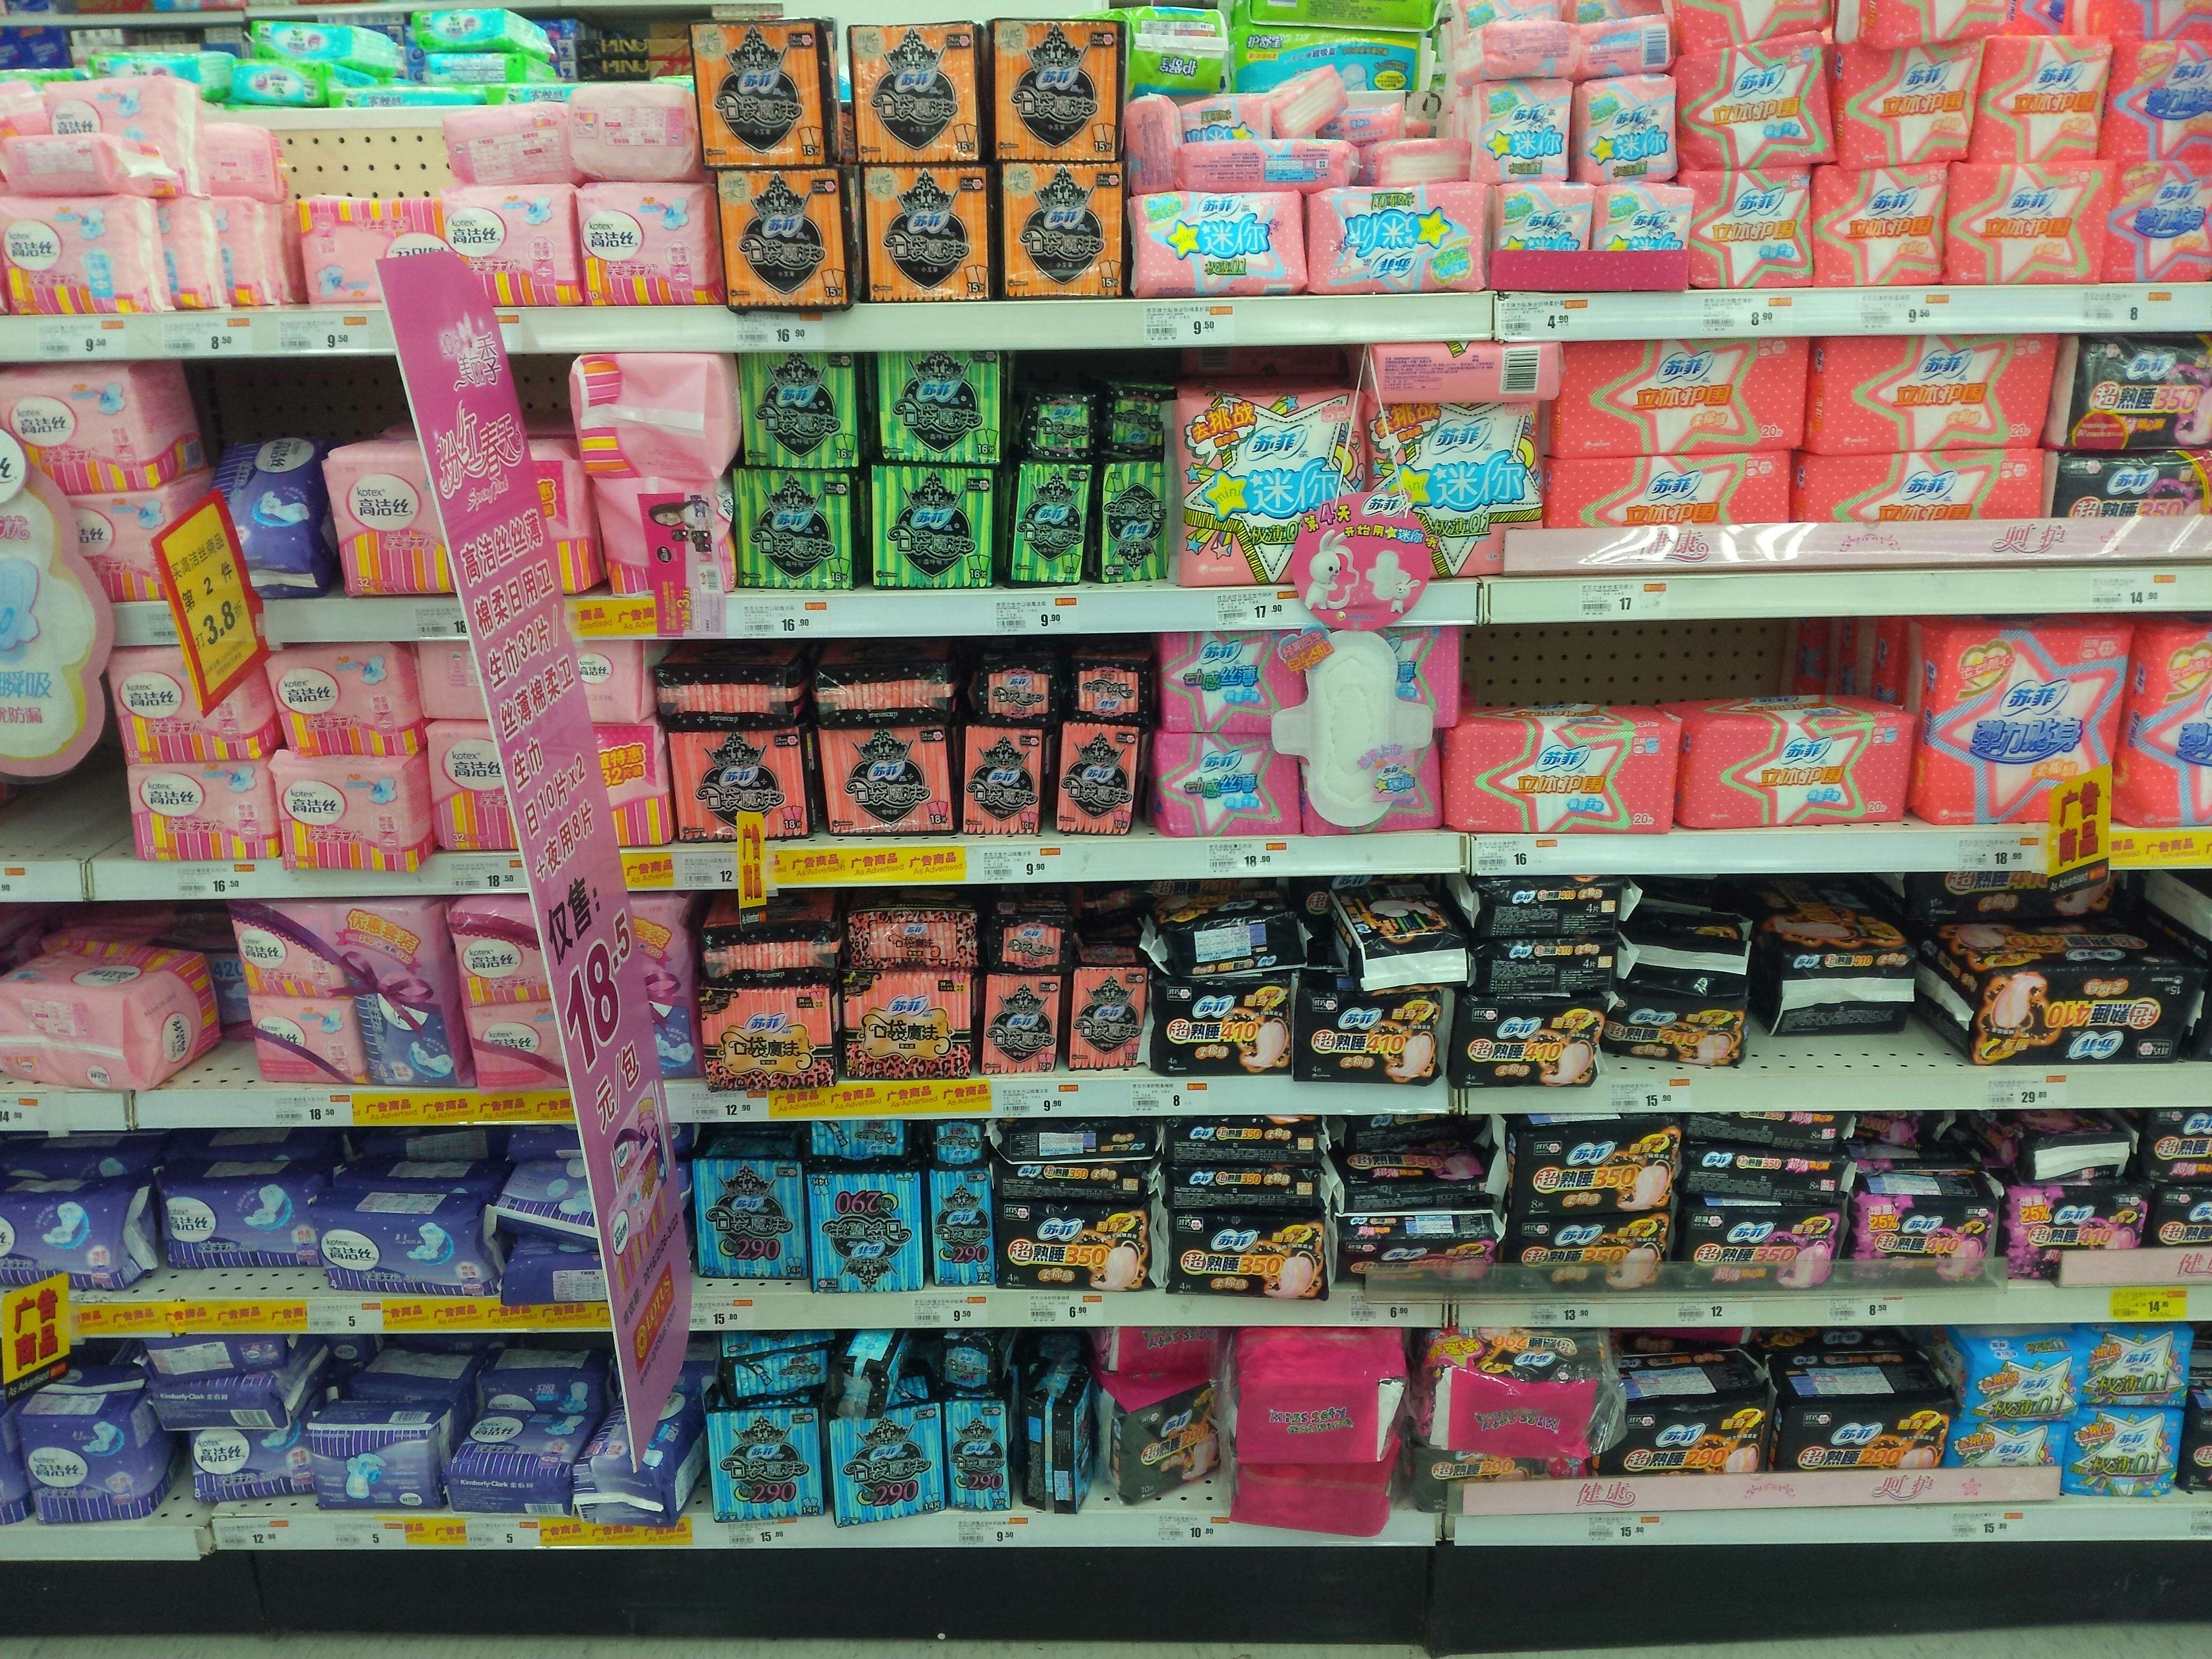Misplacement: (1625, 875, 1961, 1072)
